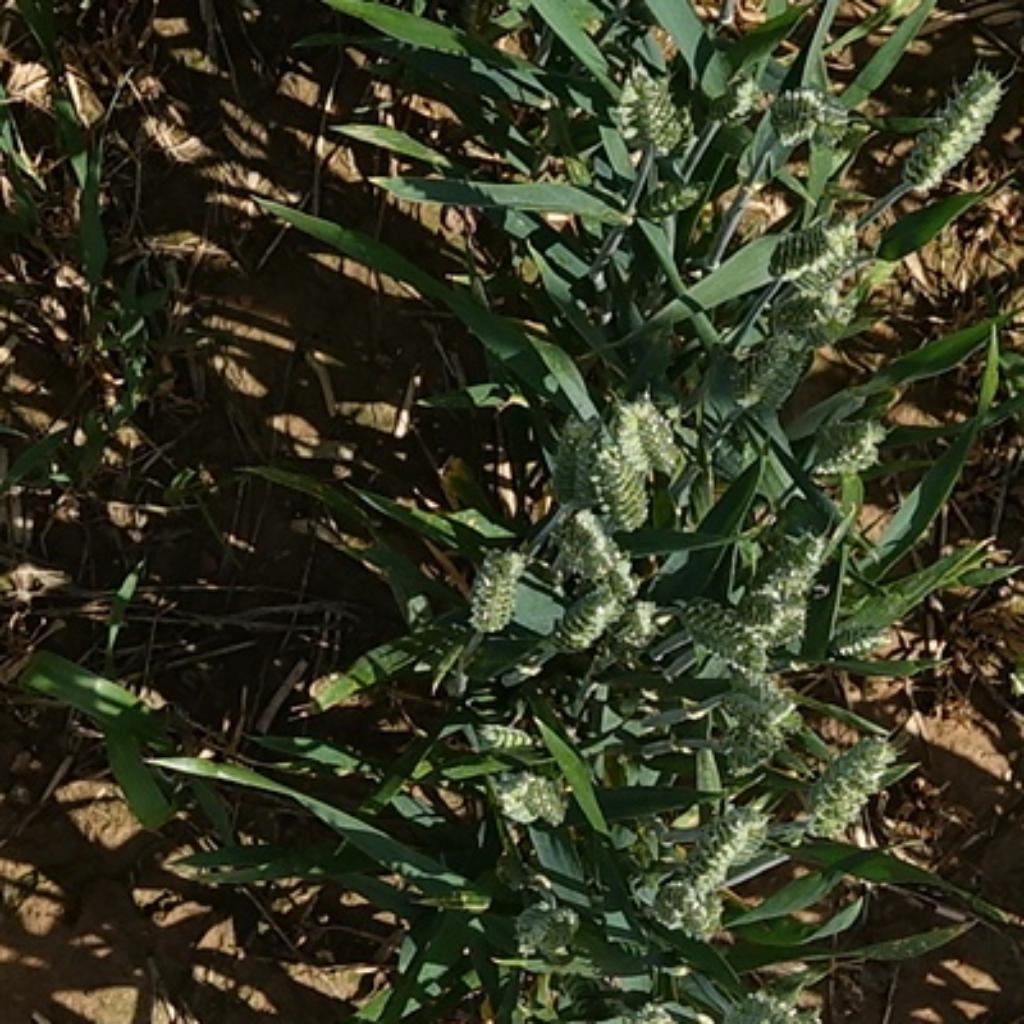0-0: (899, 68, 1008, 195), (801, 728, 894, 834), (719, 537, 826, 629), (584, 432, 663, 548), (673, 583, 778, 670), (599, 381, 686, 478), (455, 537, 529, 637), (617, 61, 691, 158), (683, 809, 765, 896), (554, 411, 611, 522), (777, 207, 868, 274), (737, 331, 817, 406), (556, 580, 629, 658), (724, 719, 802, 790), (727, 665, 808, 732), (812, 413, 890, 482), (768, 79, 841, 148), (547, 515, 617, 586), (512, 894, 585, 960), (654, 877, 725, 943), (495, 765, 573, 825), (747, 588, 806, 660), (762, 282, 846, 332), (710, 67, 776, 126), (632, 174, 701, 225), (724, 992, 828, 1024), (826, 619, 892, 660), (479, 717, 540, 761)
